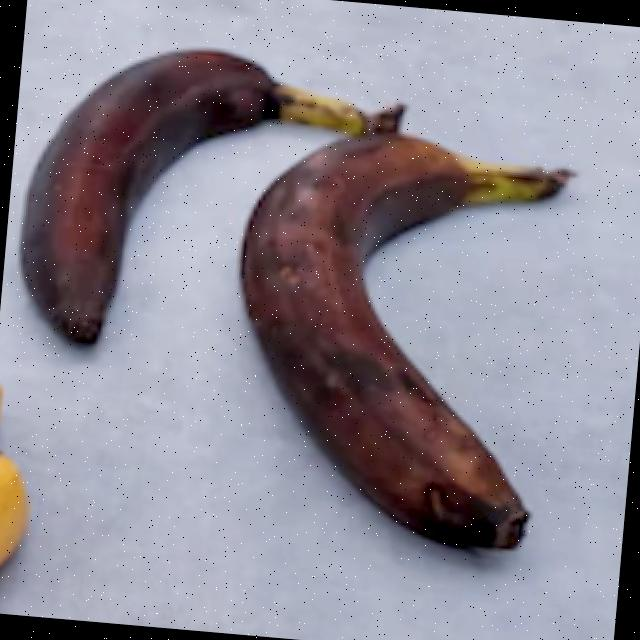rotten banana: (173, 58, 600, 616), (16, 1, 259, 412)
